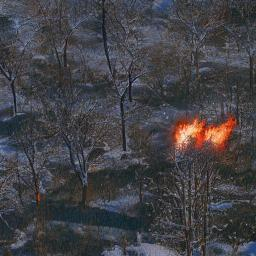Small fire: (175, 117, 228, 152)
